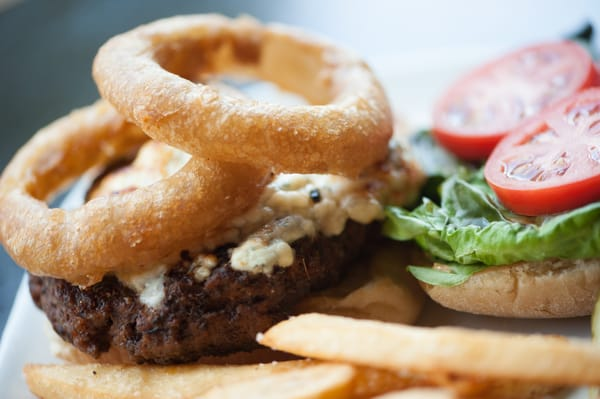soup: (0, 20, 429, 371), (380, 39, 600, 321)
